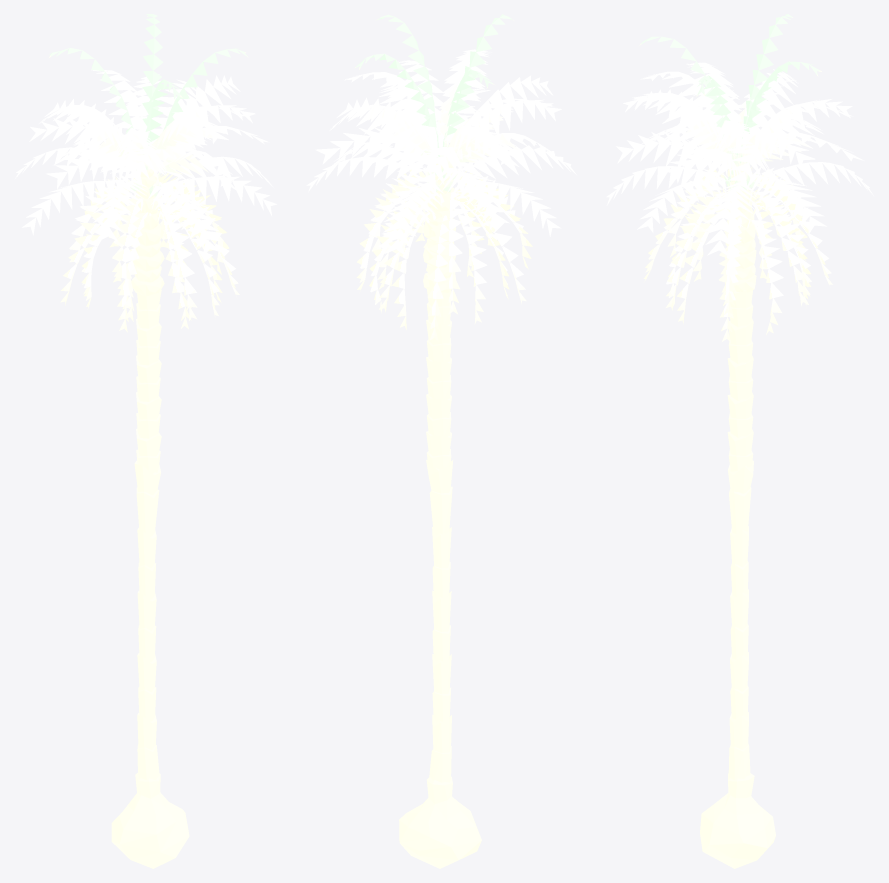
File: SRC_palm_old.glb
3 renders of one model, left to right at view 1: azimuth 30°, elevation 25°; view 2: azimuth 150°, elevation 25°; view 3: azimuth 270°, elevation 25°, orthographic.
Parts seen in each view (by area): view 1: SRC_palm_old; view 2: SRC_palm_old; view 3: SRC_palm_old.
Boxes of the visible parts, x1,y1,x2,y2 form: SRC_palm_old: (15, 14, 276, 868); SRC_palm_old: (306, 14, 576, 868); SRC_palm_old: (606, 14, 873, 868).
Size of the model in its own units: 2.67 by 9 by 2.67.
1 material, 1 textured.
